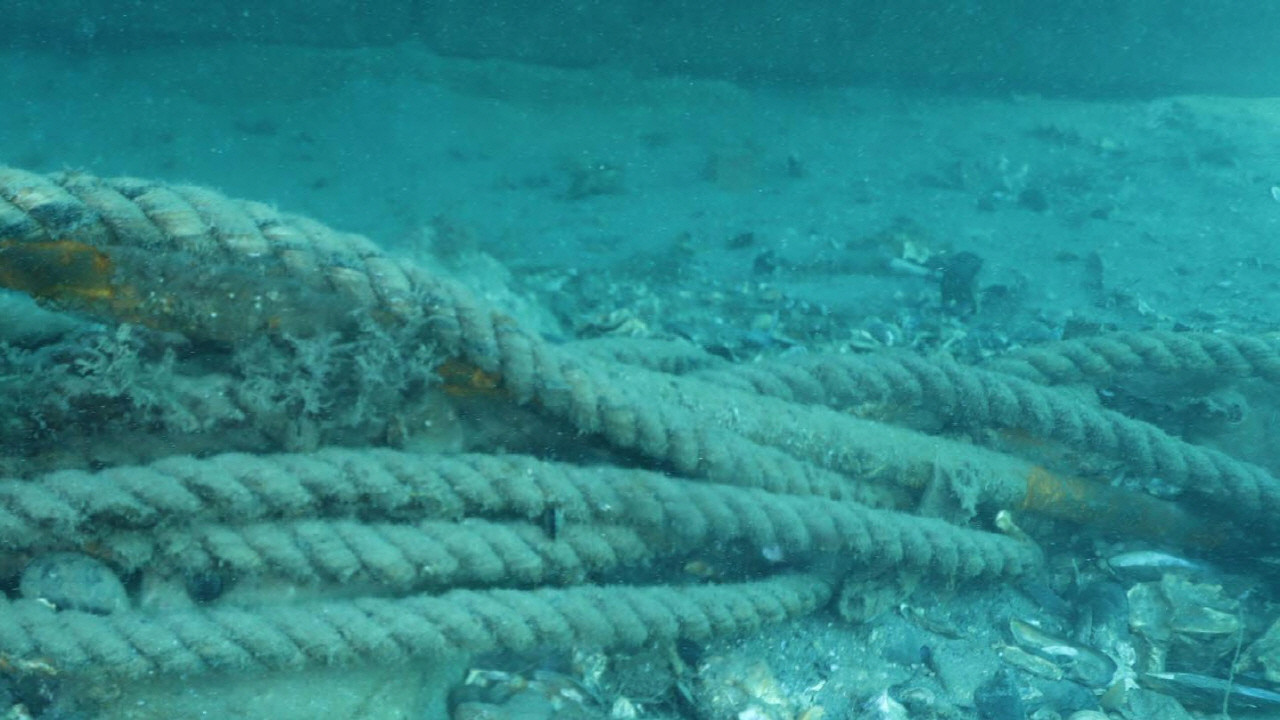bundle of ropes: (0, 167, 1280, 683)
